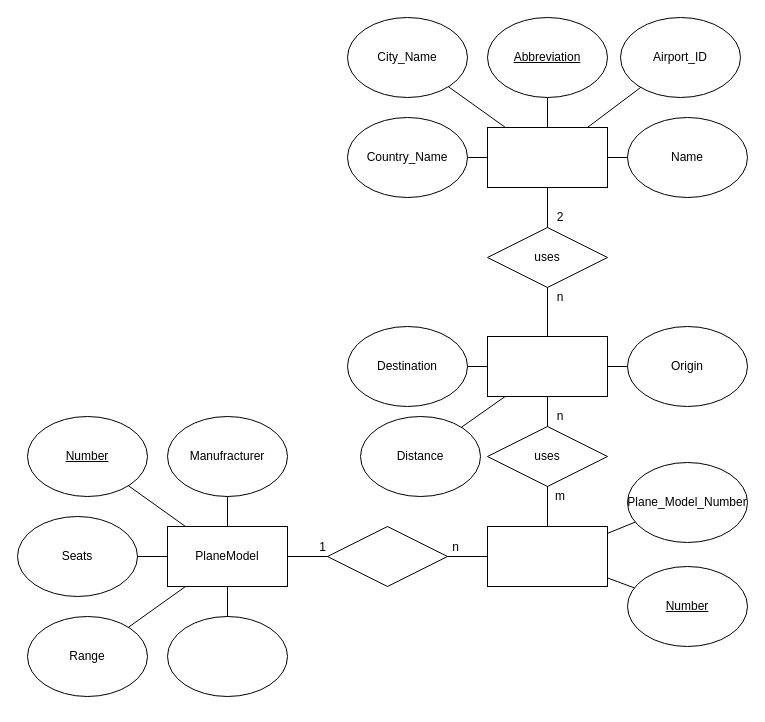
This 765x722 diagram has some shape labels left out. Here are the shapes that lost their labels. From the top down, the box of each, then its label:
(486, 126, 608, 188): Airport
(486, 336, 608, 396): Route
(326, 526, 448, 586): is
(486, 526, 608, 586): Plane
(166, 616, 288, 696): Weight_Capacity
